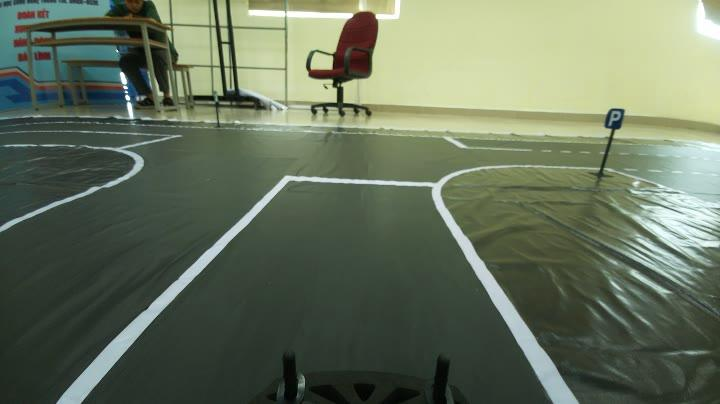parking: (603, 106, 630, 134)
